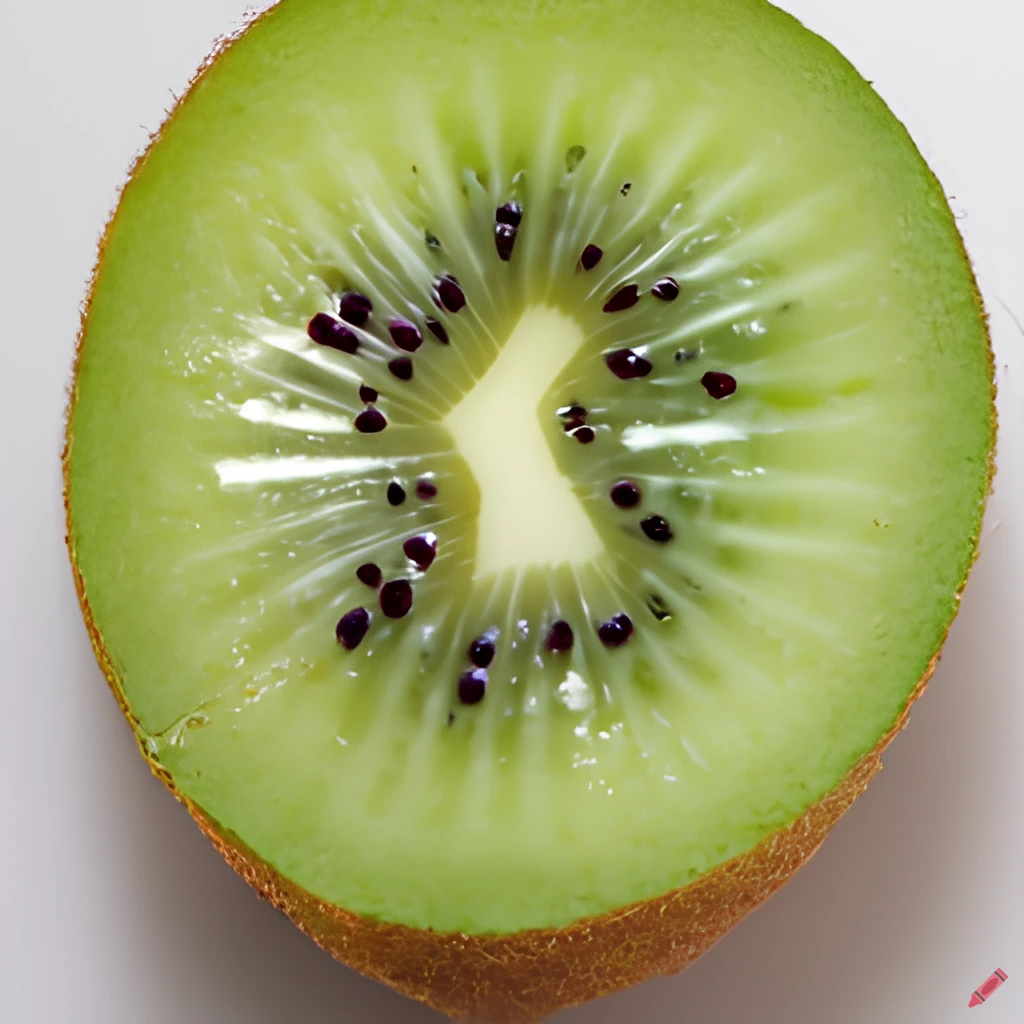Kiwi: (60, 0, 992, 1016)
